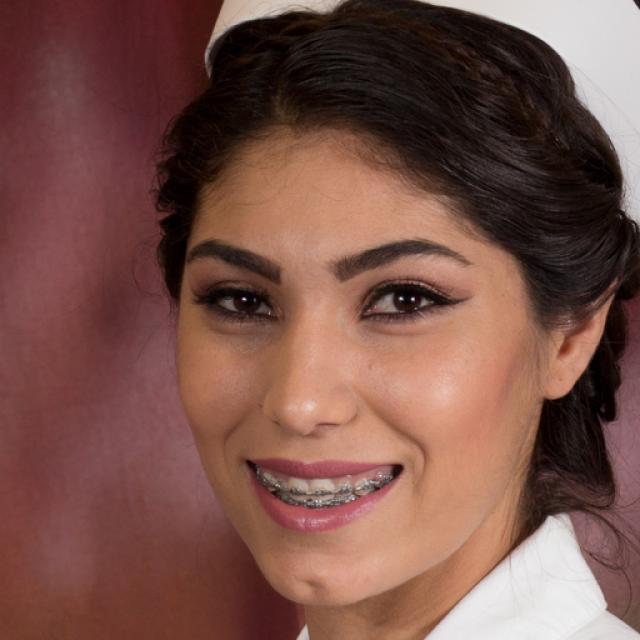happy: (175, 118, 541, 608)
